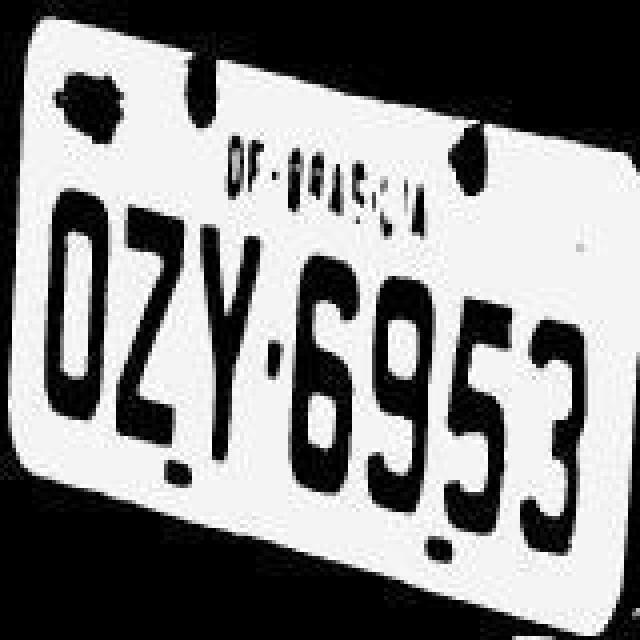3: (514, 322, 590, 558)
5: (440, 294, 520, 538)
6: (290, 254, 366, 498)
9: (364, 276, 436, 524)
O: (36, 180, 116, 420)
Y: (202, 214, 270, 466)
Z: (114, 196, 190, 444)
